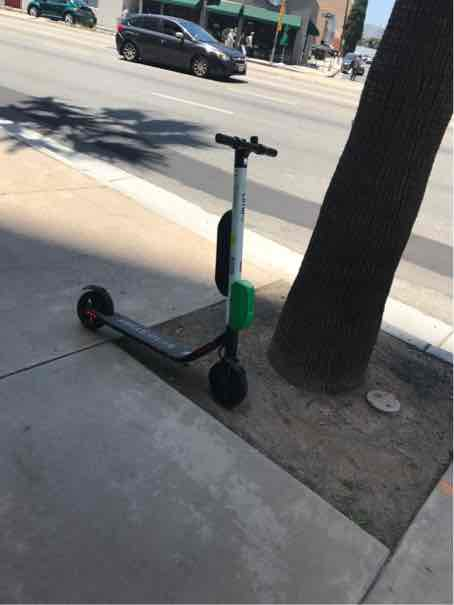scooter: (65, 122, 297, 415)
